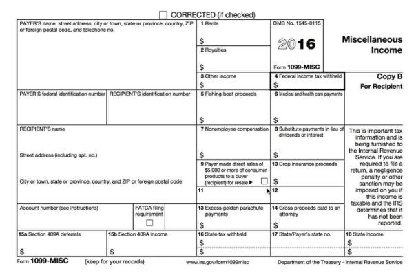checkbox: (158, 10, 169, 19), (145, 218, 154, 227), (260, 177, 268, 185)
textbox: (16, 18, 198, 91), (15, 123, 197, 150), (15, 149, 197, 176), (15, 177, 197, 204), (15, 87, 108, 125), (105, 88, 198, 126), (15, 202, 134, 231), (269, 88, 346, 127), (195, 87, 272, 126), (267, 123, 344, 162), (194, 123, 271, 161), (14, 229, 108, 258), (105, 229, 198, 257), (268, 158, 346, 188), (194, 202, 272, 231), (268, 202, 346, 231), (196, 18, 271, 46), (196, 44, 271, 72), (195, 229, 272, 250), (269, 185, 345, 206), (196, 185, 271, 206), (269, 70, 346, 90), (195, 70, 271, 90), (270, 229, 346, 249), (343, 229, 404, 250), (163, 202, 198, 231), (269, 245, 346, 258), (194, 244, 270, 256), (342, 246, 405, 258)
